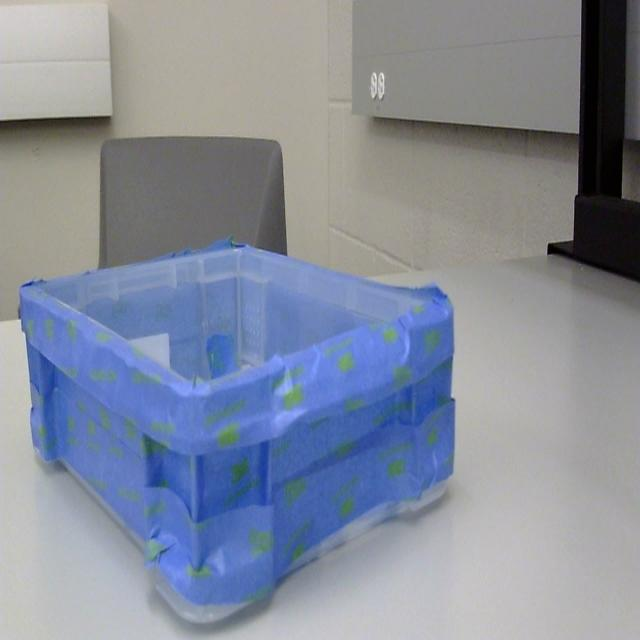bucket: (18, 244, 456, 629)
